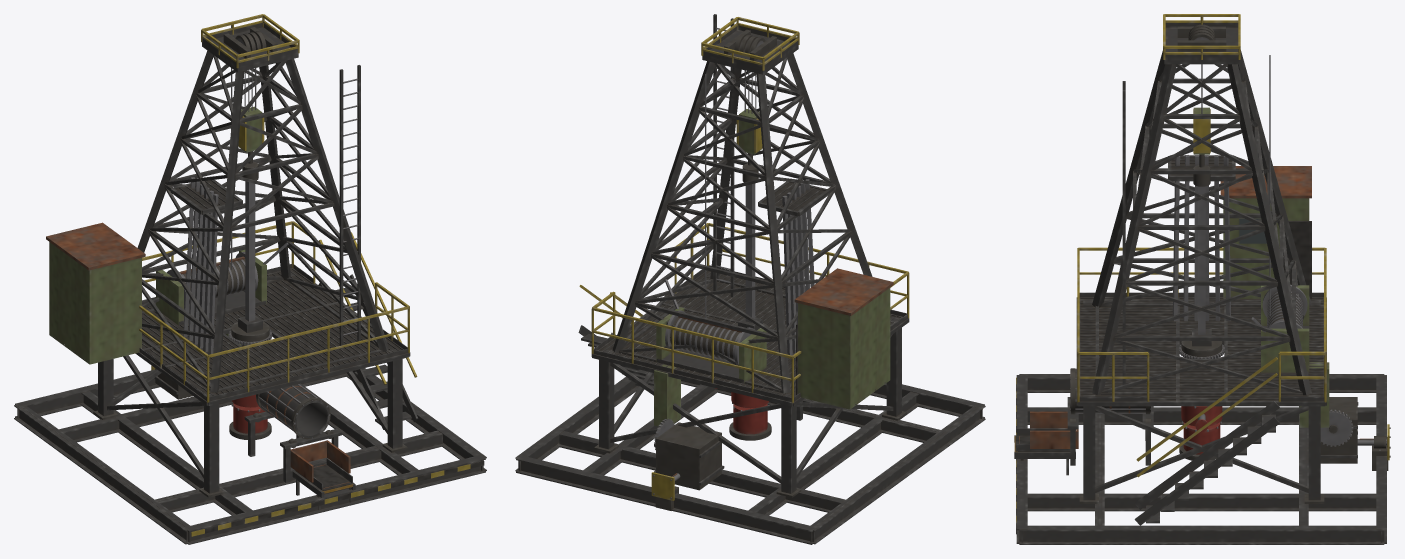
The model's file is feMiningRig_HD.fbx.
3 renders of one model, left to right at view 1: azimuth 30°, elevation 25°; view 2: azimuth 150°, elevation 25°; view 3: azimuth 270°, elevation 25°, orthographic. The views are drawn at different scales.
Visible parts, largest first — view 1: feMiningRig_Base, FeSpin_x0.4_Trommel, FeSpin_x0.5_Kelly, feMiningRig_Block, FeSpin_x1.5_Drum; view 2: feMiningRig_Base, FeSpin_x1.5_Drum, FeSpin_x0.5_Kelly, feMiningRig_Block; view 3: feMiningRig_Base, FeSpin_x0.5_Kelly, FeSpin_x1.5_Drum, FeSpin_x0.8_Sprocket, feMiningRig_Block, FeSpin_x0.4_Trommel.
Boxes of the visible parts, left/top/right/bottom form: feMiningRig_Base: left=14, top=14, right=486, bottom=544; FeSpin_x0.4_Trommel: left=256, top=384, right=330, bottom=439; FeSpin_x0.5_Kelly: left=228, top=161, right=272, bottom=345; feMiningRig_Block: left=238, top=68, right=264, bottom=163; FeSpin_x1.5_Drum: left=166, top=252, right=258, bottom=309; feMiningRig_Base: left=515, top=14, right=985, bottom=544; FeSpin_x1.5_Drum: left=665, top=310, right=754, bottom=364; FeSpin_x0.5_Kelly: left=734, top=163, right=769, bottom=338; feMiningRig_Block: left=736, top=70, right=762, bottom=165; feMiningRig_Base: left=1014, top=14, right=1390, bottom=544; FeSpin_x0.5_Kelly: left=1179, top=165, right=1224, bottom=359; FeSpin_x1.5_Drum: left=1262, top=284, right=1307, bottom=328; FeSpin_x0.8_Sprocket: left=1320, top=409, right=1353, bottom=446; feMiningRig_Block: left=1193, top=64, right=1210, bottom=167; FeSpin_x0.4_Trommel: left=1070, top=368, right=1150, bottom=414.
Bounding box in the file's own units: 6.95 × 8.99 × 7.01.
1 material, 1 textured.
